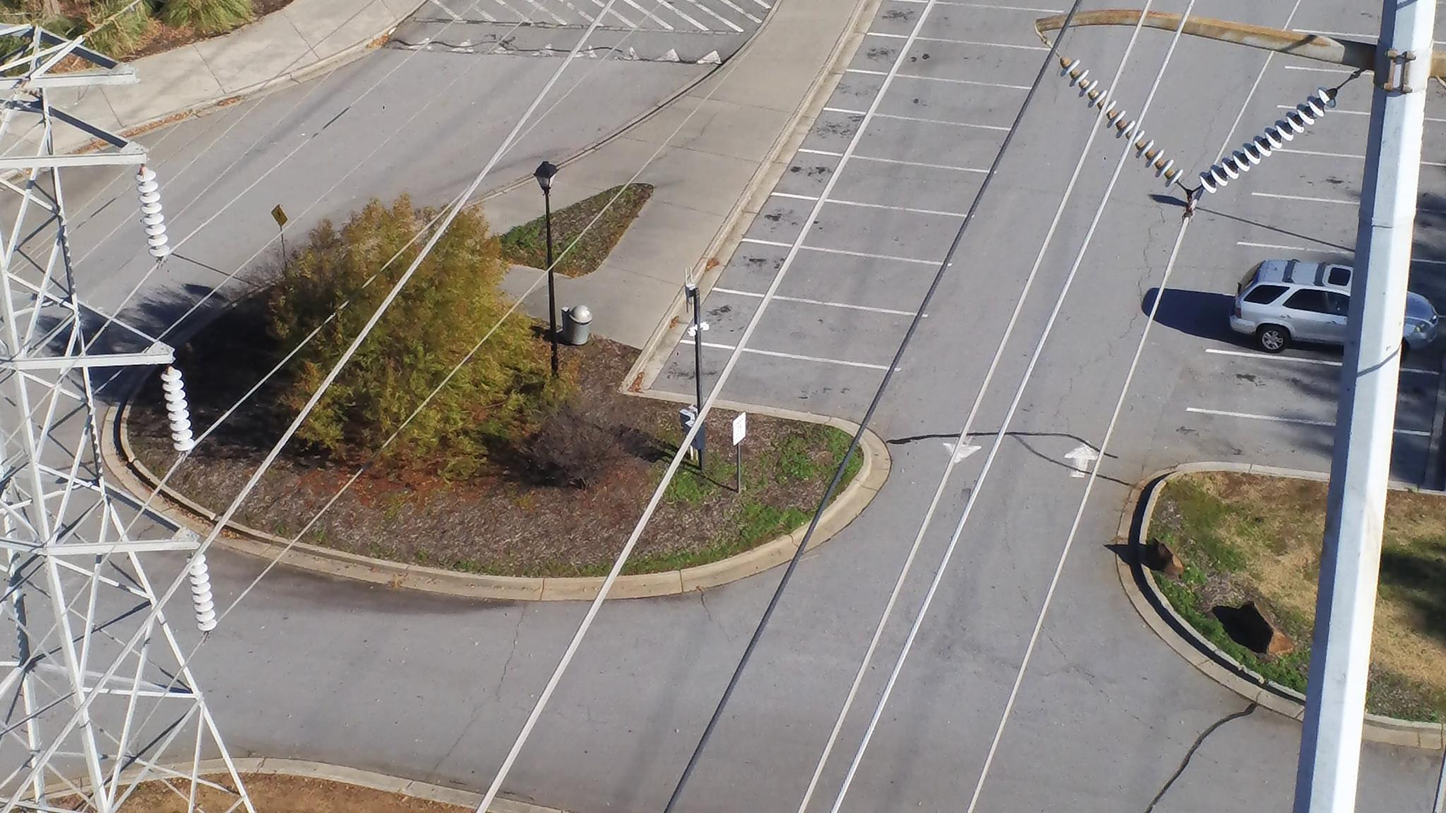tower: (0, 19, 268, 813)
